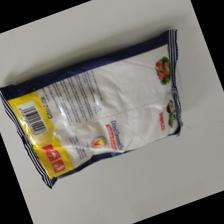Salt: (1, 27, 184, 190)
